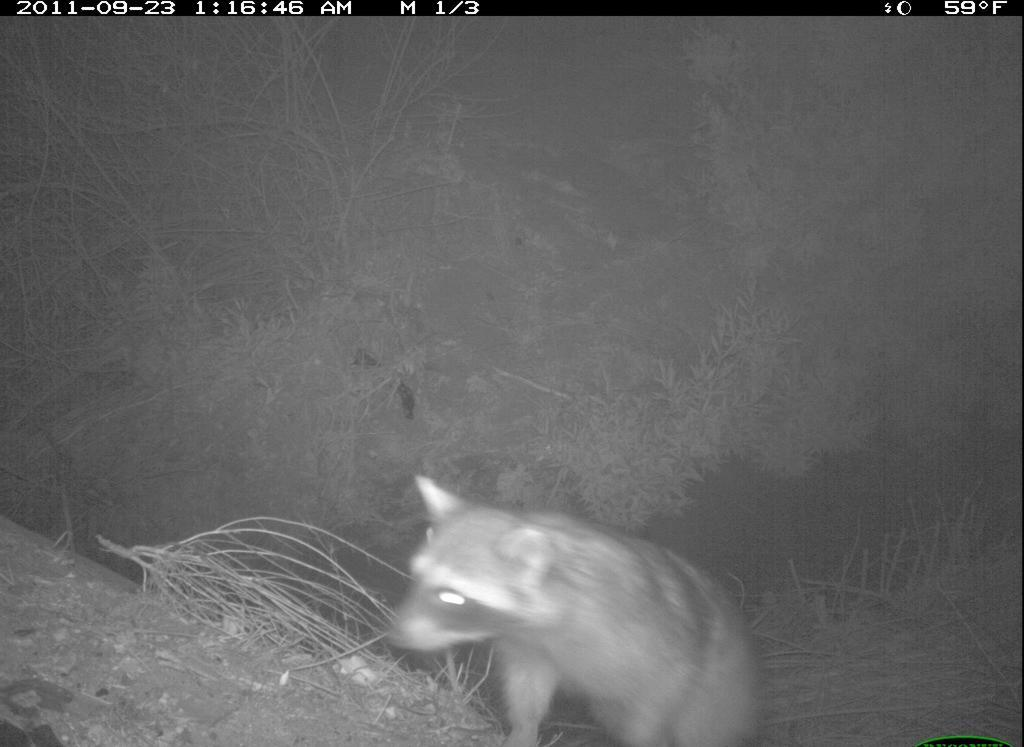raccoon: (354, 432, 780, 747)
